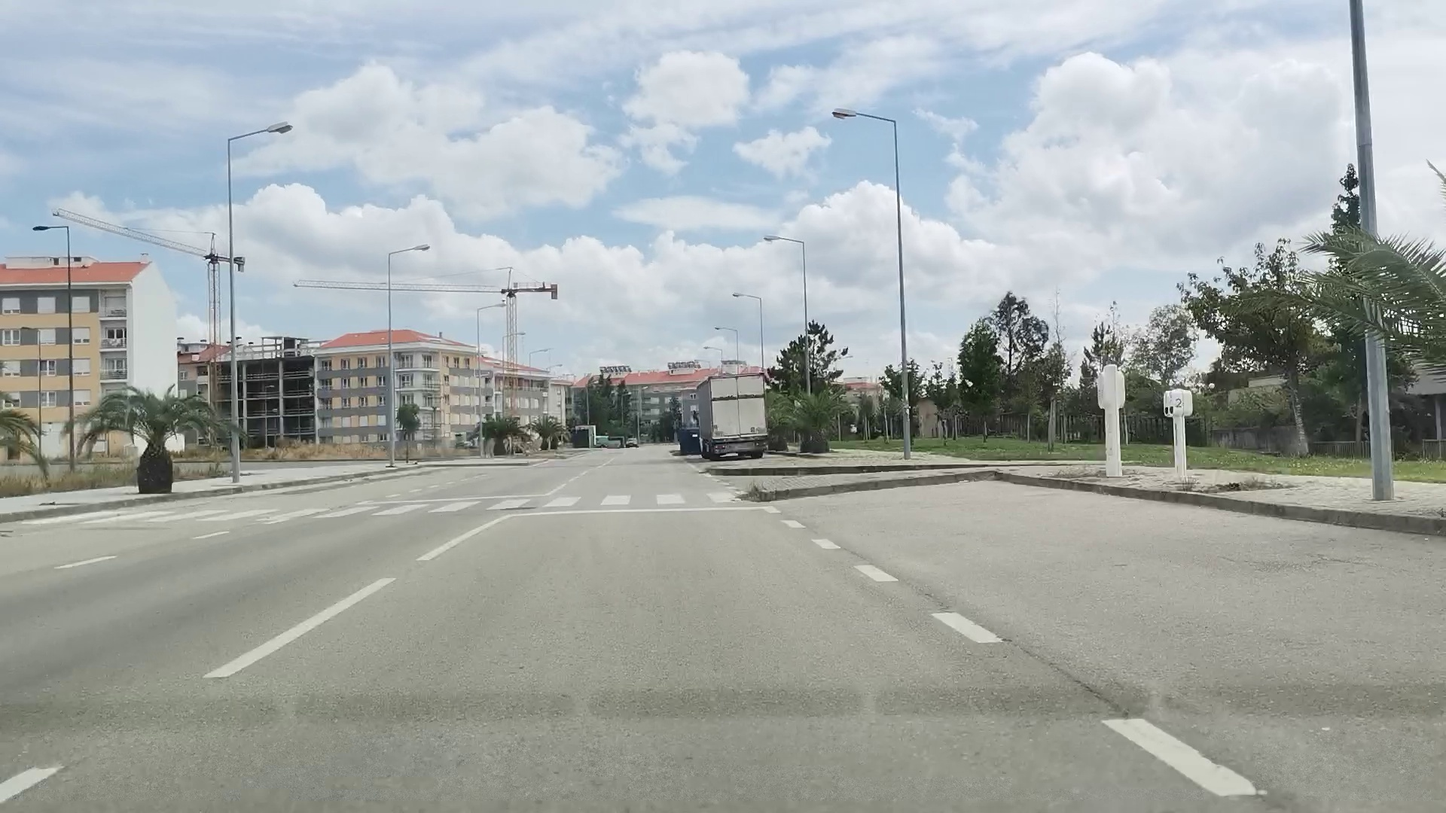Stairs: (43, 492, 747, 524)
